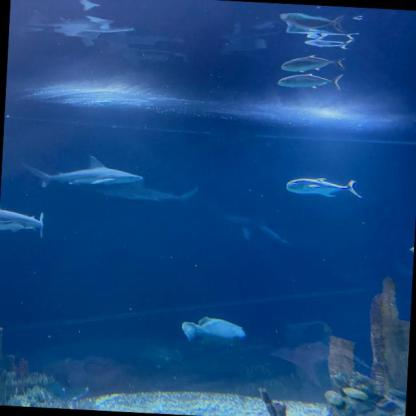fish: (181, 316, 247, 350), (284, 174, 366, 200), (272, 10, 349, 36), (274, 68, 346, 92), (279, 53, 349, 76), (302, 34, 358, 52)
shark: (20, 152, 144, 194), (81, 181, 198, 204), (226, 213, 299, 245), (0, 204, 46, 241)
